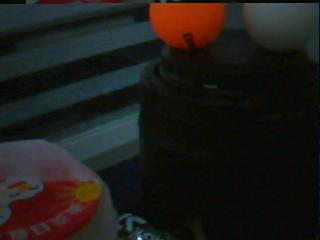oball: (149, 3, 227, 47)
